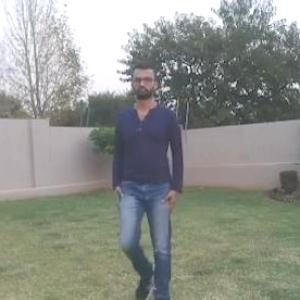follow: (114, 68, 179, 294)
